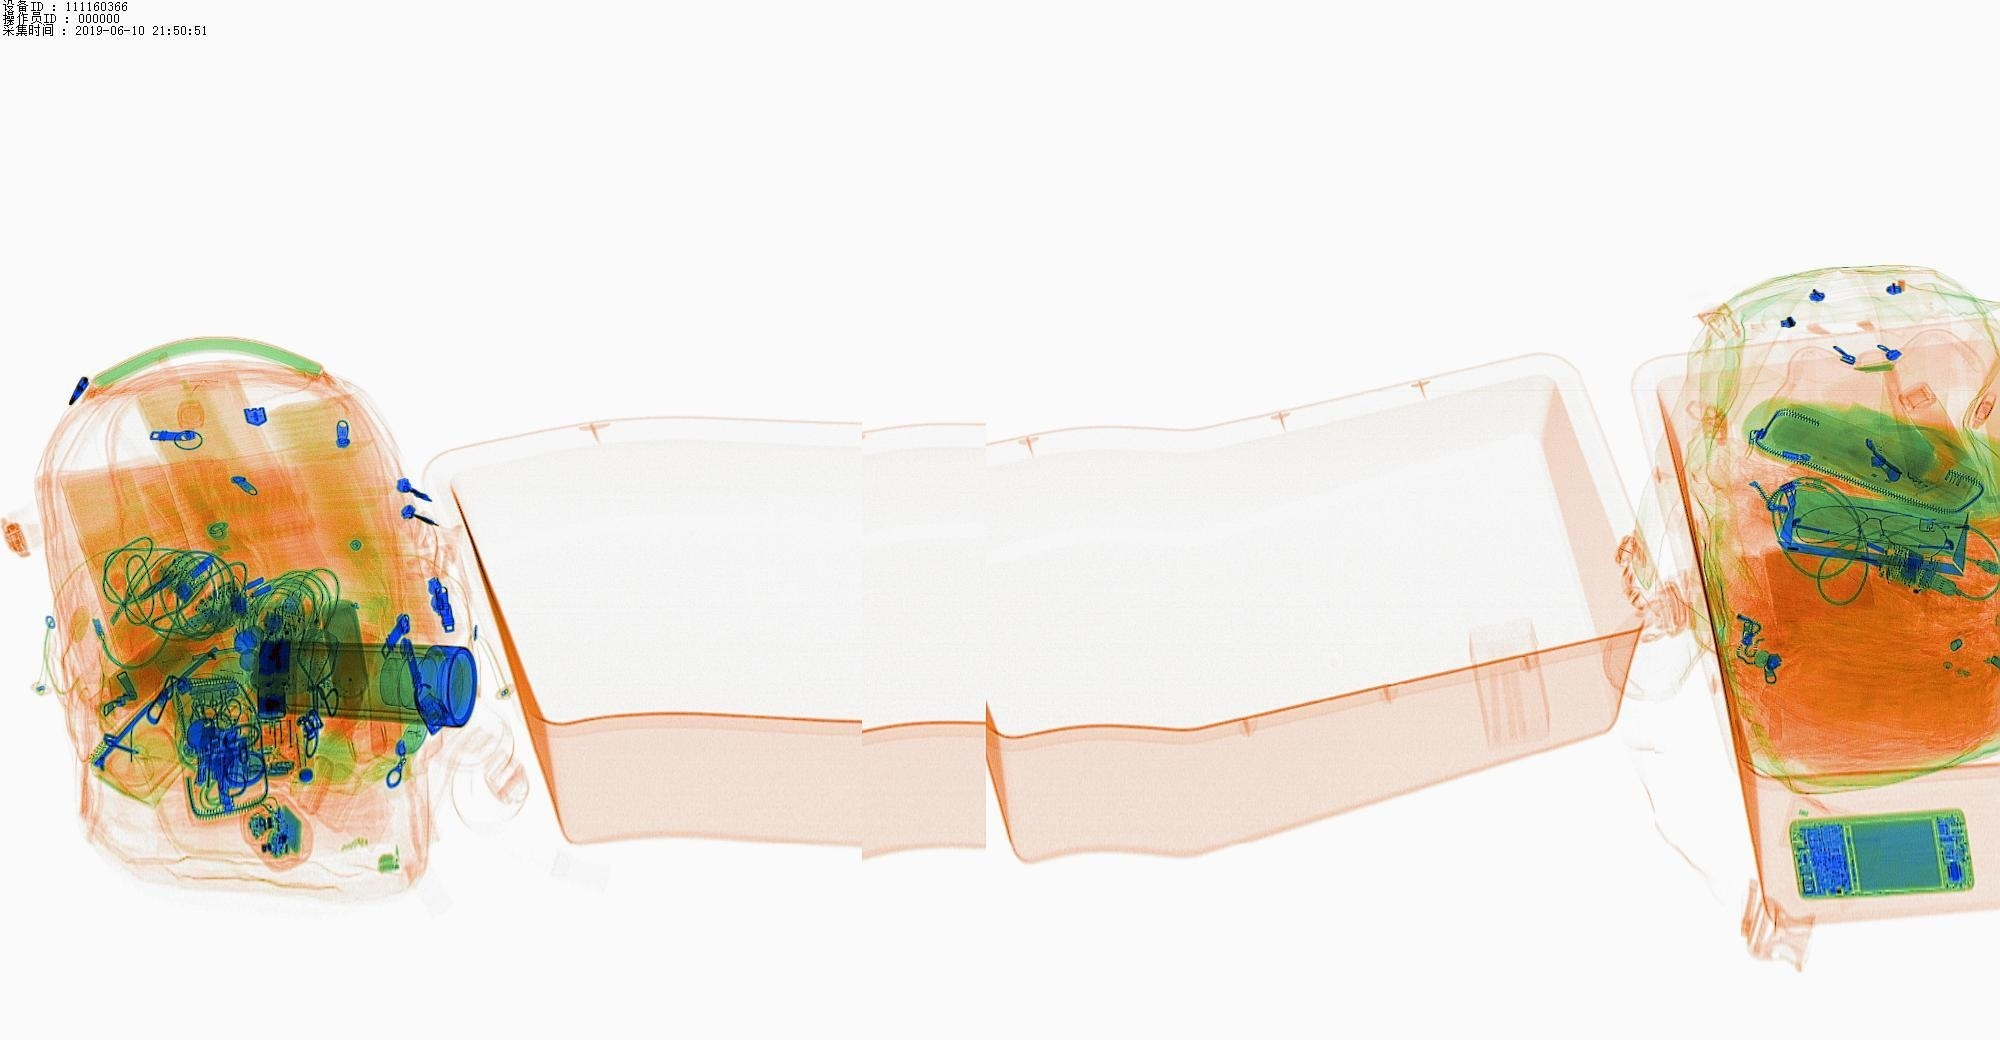NonmetallicFire: (1878, 507, 1993, 546)
